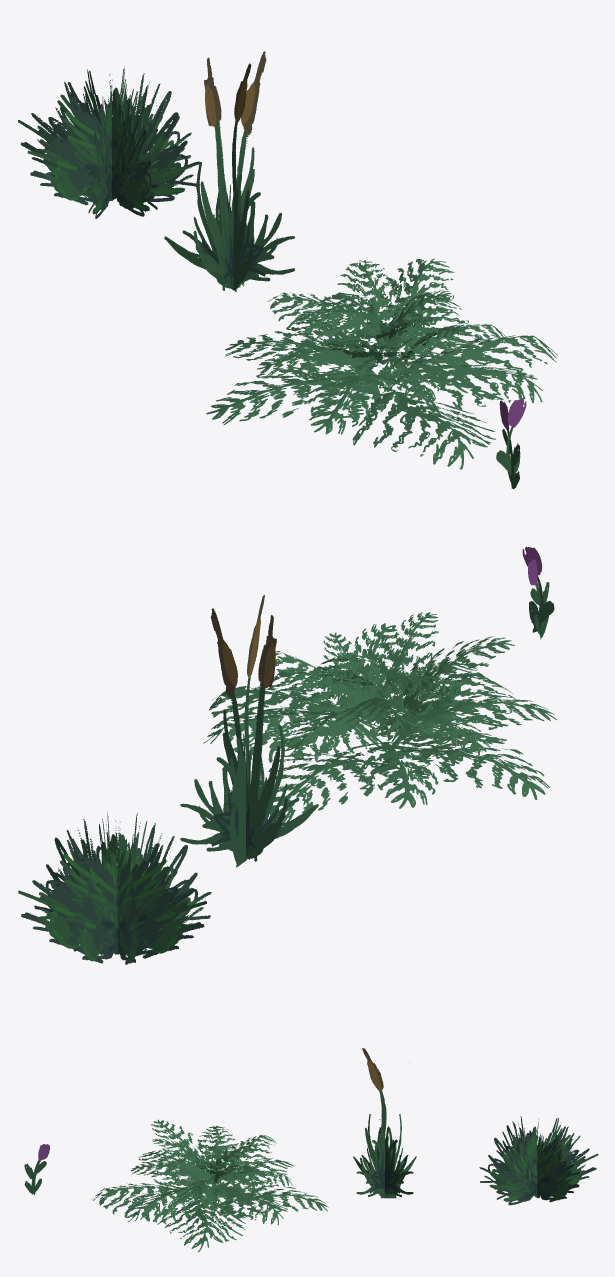
File: Shrubbery.fbx
3 views of the same model, one above another, from view 1: azimuth 30°, elevation 25°; view 2: azimuth 150°, elevation 25°; view 3: azimuth 270°, elevation 25° (orthographic). The views are drawn at different scales.
Visible parts, largest first — view 1: Plane.004, Plane.002, Plane, Plane.012; view 2: Plane.004, Plane.002, Plane, Plane.012; view 3: Plane.004, Plane.002, Plane, Plane.012.
Boxes of the visible parts, x1,y1,x2,y2 form: Plane.004: (206,258,557,469); Plane.002: (18,66,199,218); Plane: (164,51,294,291); Plane.012: (496,399,526,488); Plane.004: (203,612,556,823); Plane.002: (18,811,211,964); Plane: (180,595,318,867); Plane.012: (522,546,554,639); Plane.004: (91,1119,328,1252); Plane.002: (479,1116,598,1205); Plane: (353,1048,416,1198); Plane.012: (24,1144,49,1194).
Size of the model in its own units: 124 by 85.11 by 281.
